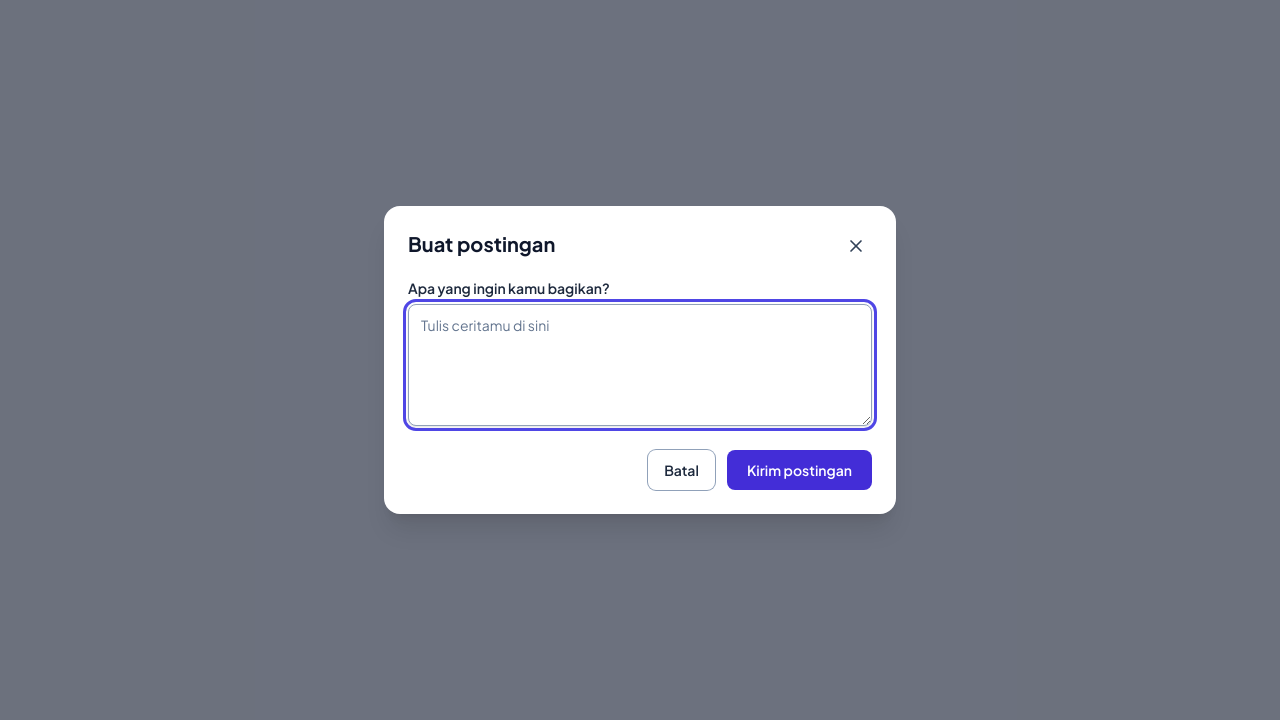
Test: AddModal › should show validation error when submitting empty description
Click the button "Kirim postingan" at (799, 470), box left=727, top=450, right=872, bottom=490
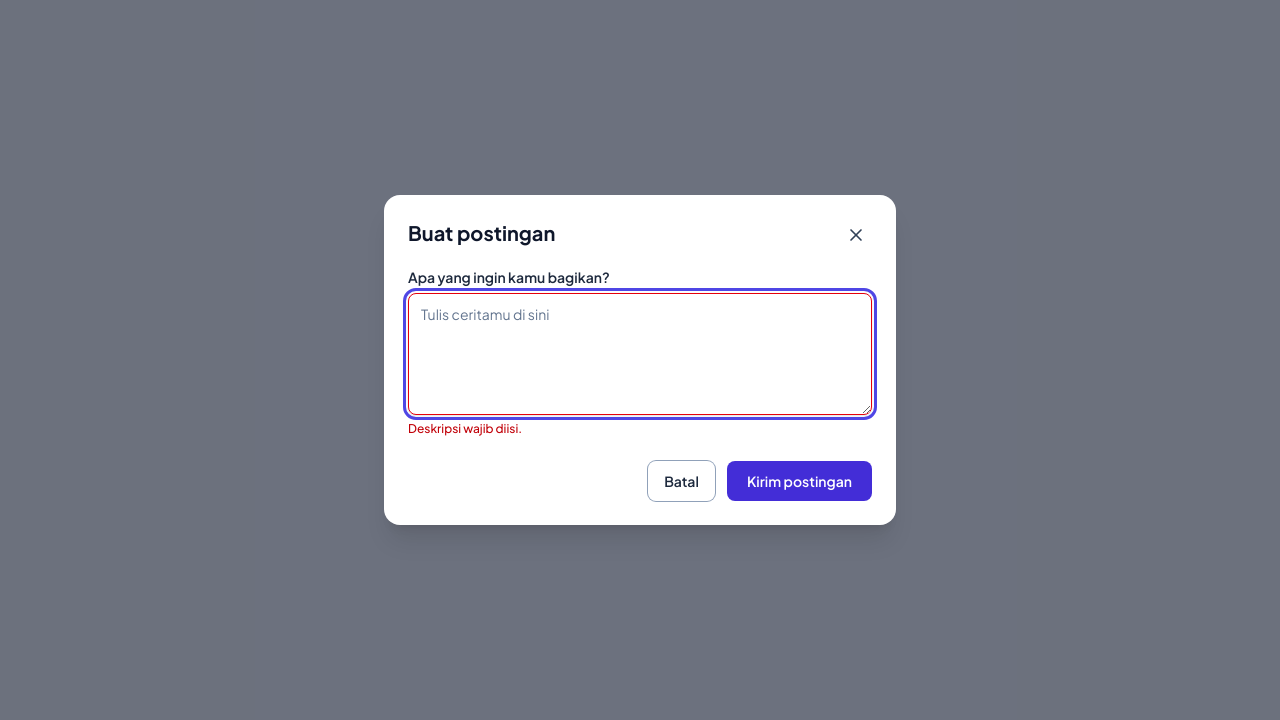
Now the text "Deskripsi wajib diisi." is shown, box left=408, top=421, right=522, bottom=436
